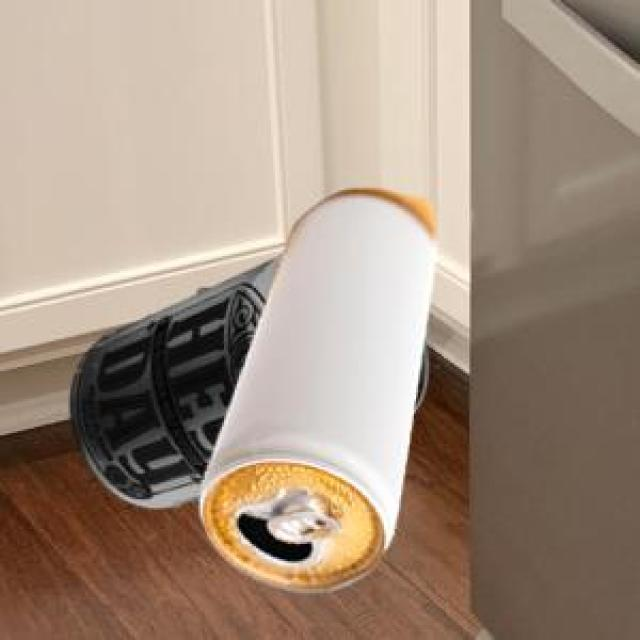Can: (199, 187, 434, 590), (67, 253, 426, 505)
